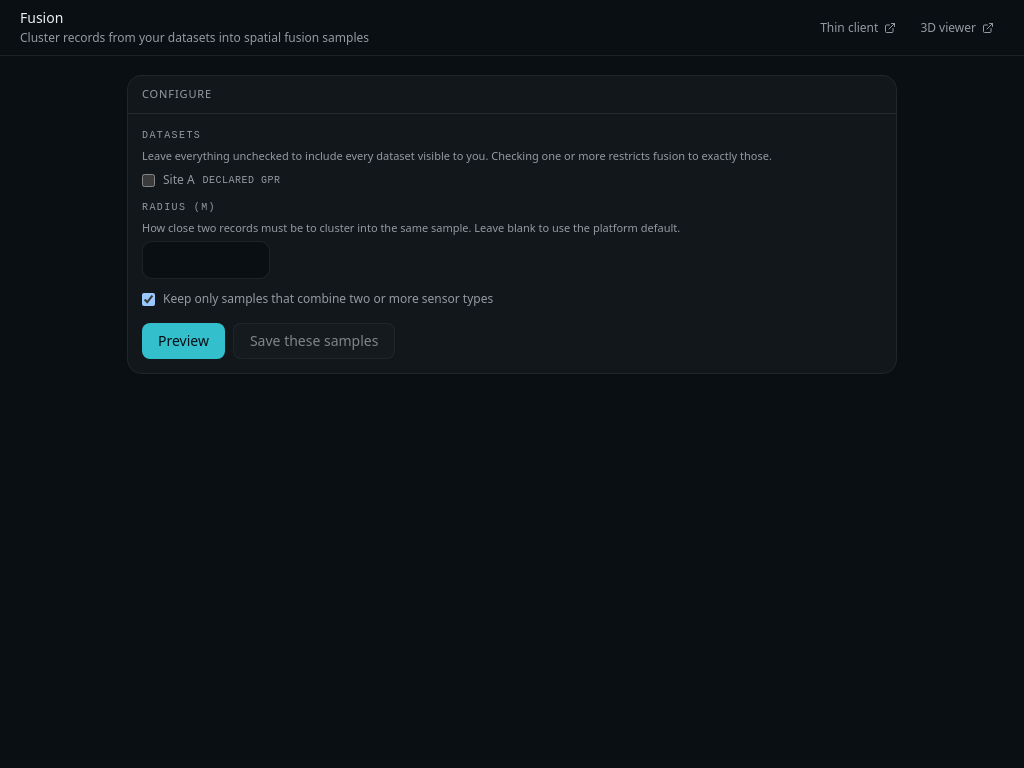
Test: preview › renders the summary counts, sample fields, and the per-sensor breakdown
Check: the text "Site A" is shown, box [163,172,195,188]
What coordinates should you click on to do the following:
click the button "Preview"
I would click on:
 (183, 341)
Its box is [142,323,225,359].
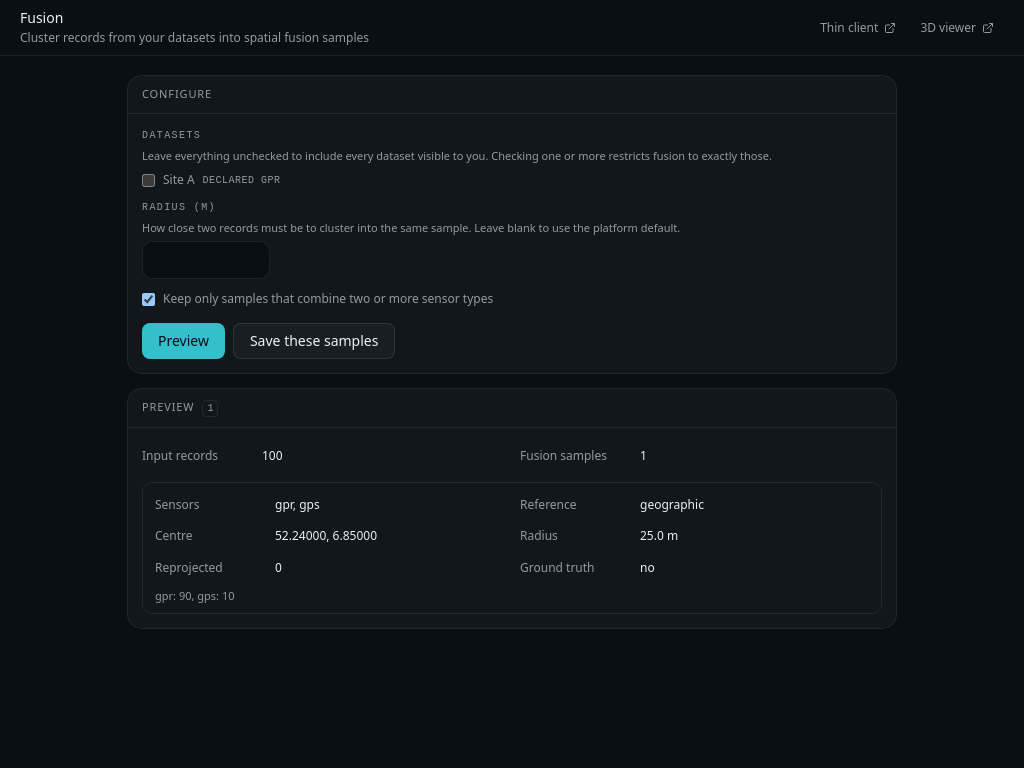
Check: the list item "gpr, gps" shows "geographic", box [640,496,704,513]
Check: the list item "gpr, gps" shows "52.24000, 6.85000", box [275,527,377,544]
Check: the list item "gpr, gps" shows "gpr: 90", box [155,588,234,603]
